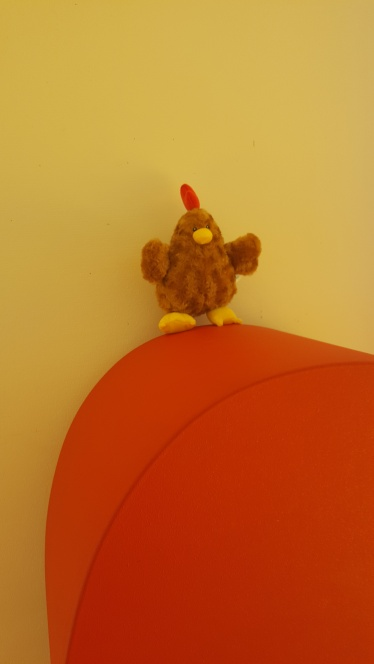chicken_front: (138, 182, 261, 333)
